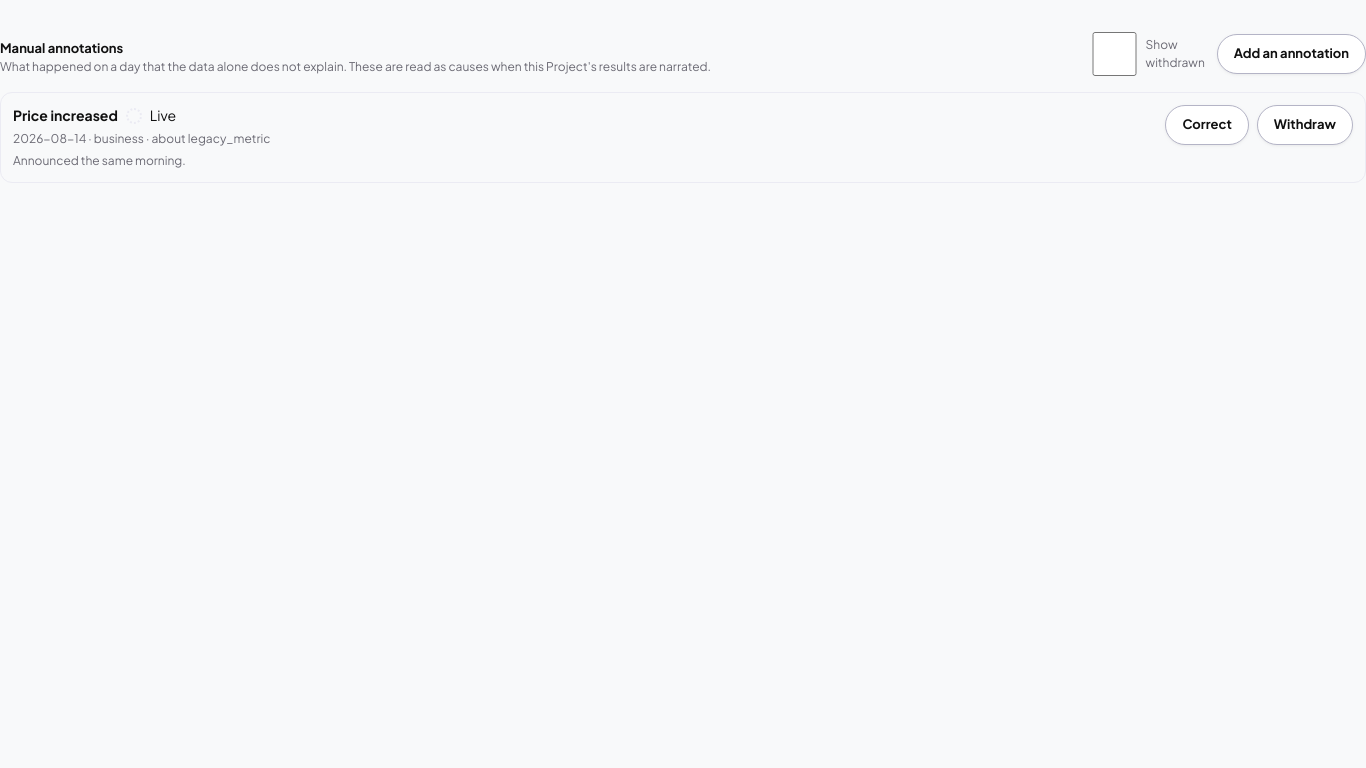
keeps a narrowing the catalogue no longer lists instead of silently widening it
The image size is (1366, 768).
Click the button with test id "manual-annotation-correct-evt_manual": {"x": 1207, "y": 125} [1165,105,1249,145]
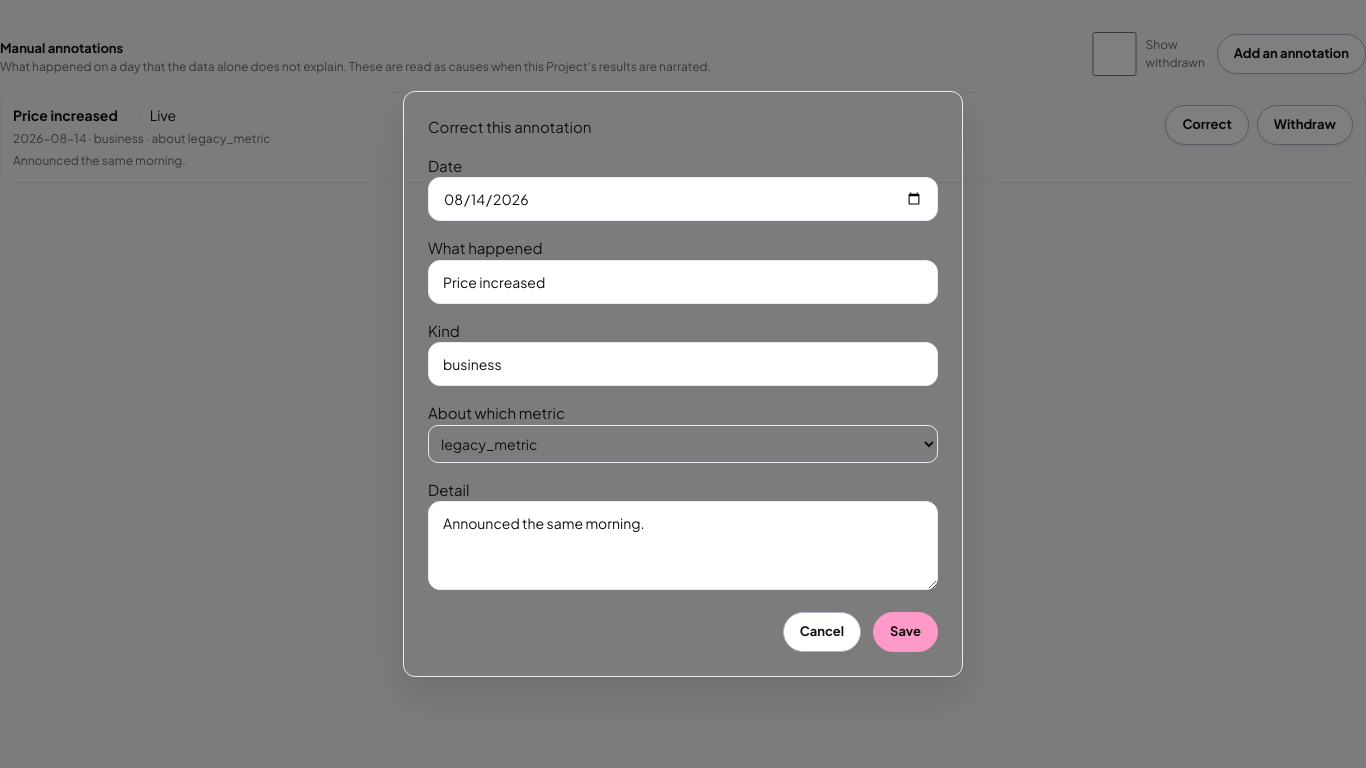
Expected: the dropdown with test id "manual-annotation-metric" shows "legacy_metric", [428,425,938,463]
